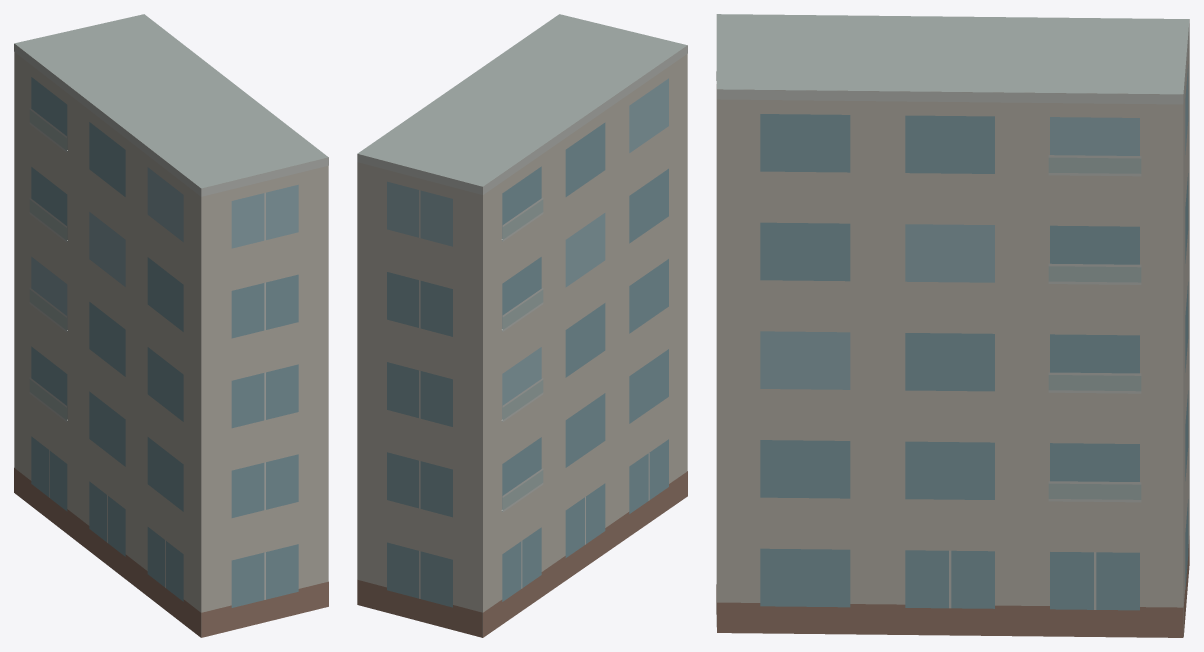
Rendered from survey-upis-33019420.glb.
3 views of the same model, side by side, from view 1: azimuth 30°, elevation 25°; view 2: azimuth 150°, elevation 25°; view 3: azimuth 270°, elevation 25° (orthographic). The views are drawn at different scales.
Parts seen in each view (by area): view 1: survey-upis-33019420.tmp; view 2: survey-upis-33019420.tmp; view 3: survey-upis-33019420.tmp.
Part boxes in pixels (x1,y1,x2,y2): survey-upis-33019420.tmp: (14, 14, 328, 637); survey-upis-33019420.tmp: (357, 14, 687, 637); survey-upis-33019420.tmp: (716, 14, 1189, 637).
Bounding box in the file's own units: 4.19 × 13.15 × 10.38.
